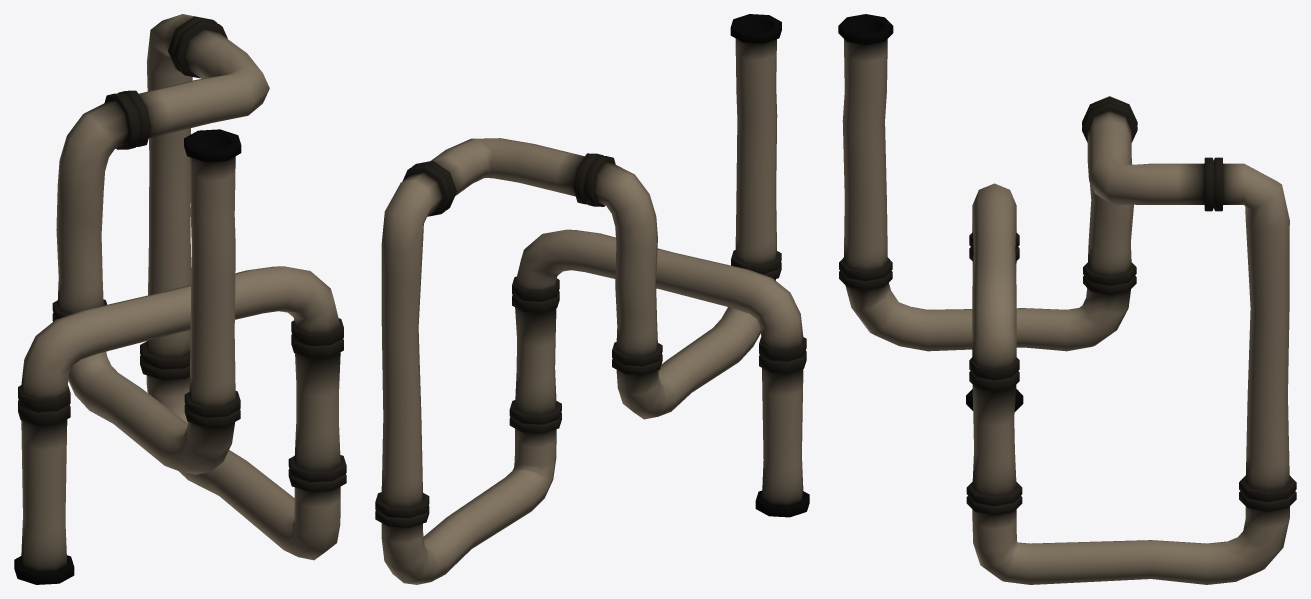
The model's file is pipe.fbx.
3 views of the same model, side by side, from view 1: azimuth 30°, elevation 25°; view 2: azimuth 150°, elevation 25°; view 3: azimuth 270°, elevation 25° (orthographic). The views are drawn at different scales.
Parts seen in each view (by area): view 1: Pipe; view 2: Pipe; view 3: Pipe.
Boxes of the visible parts, <box> form: Pipe: <box>14,14,346,584</box>; Pipe: <box>375,14,809,584</box>; Pipe: <box>838,14,1296,584</box>.
Bounding box in the file's own units: 396 × 600 × 519.
